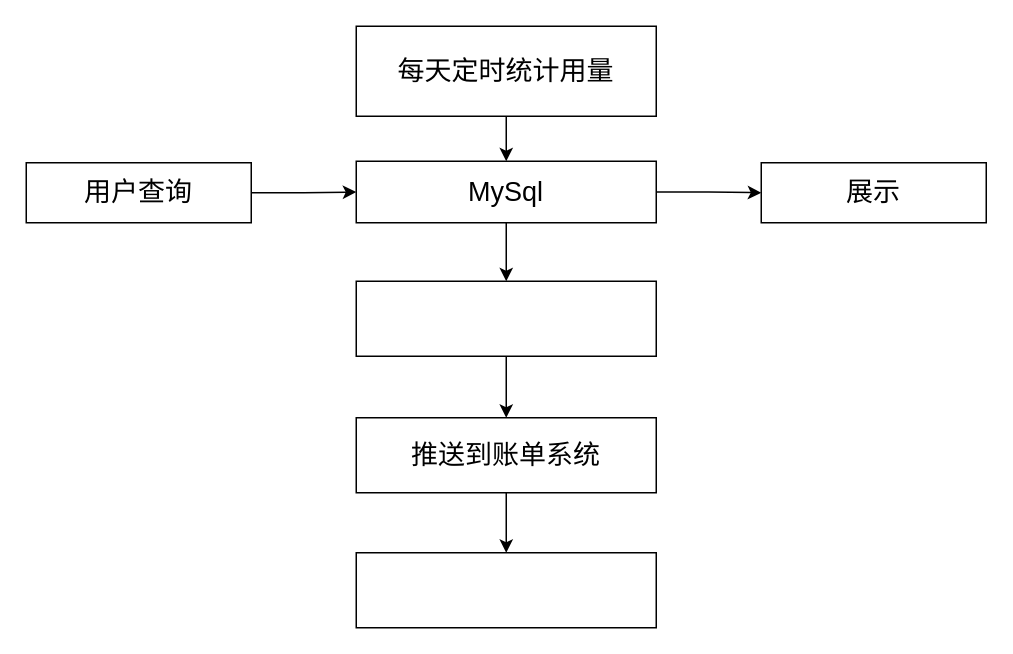
The diagram is 1013 pixels wide and 654 high, and some of its shapes have lost their labels. Each missing label, with the box of its shape:
发送邮件给helper: (355, 551, 656, 628)
生成CSV文件: (355, 280, 656, 356)
